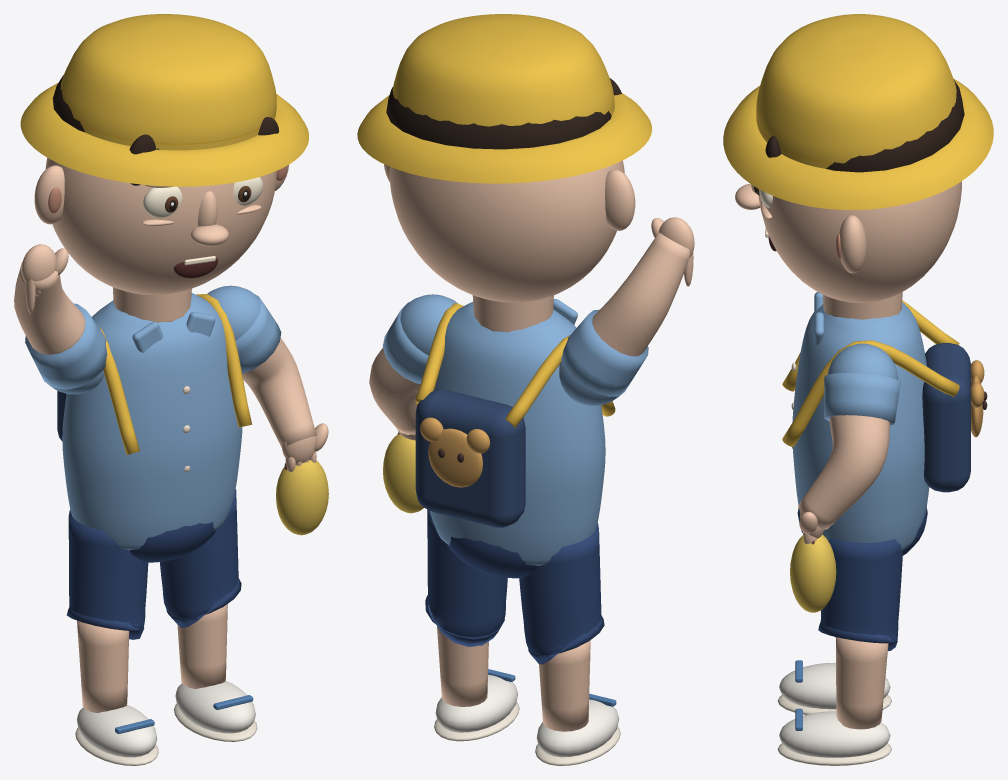
Rendered from kid.glb.
3 renders of one model, left to right at view 1: azimuth 30°, elevation 25°; view 2: azimuth 150°, elevation 25°; view 3: azimuth 270°, elevation 25°, orthographic. The views are drawn at different scales.
Visible parts, largest first — view 1: Torso, HatCrown, SculptedHead, HatBrim, TrouserLeg, TrouserLeg.001, Arm.001, BareCalf, Arm, BareCalf.001, ShortSleeve, DrawstringBag (+20 smaller); view 2: SculptedHead, Torso, HatCrown, HatBrim, SchoolBag, TrouserLeg, TrouserLeg.001, Arm, HairDome, BareCalf, ShortSleeve, BareCalf.001 (+16 smaller); view 3: HatCrown, Torso, SculptedHead, HatBrim, TrouserLeg.001, SchoolBag, Arm.001, BareCalf.001, Shoe.001, ShortSleeve.001, HairDome, DrawstringBag (+9 smaller).
Part boxes in pixels (box(x1,y1,x2,y2)): Torso: box(62, 293, 242, 550); HatCrown: box(60, 14, 276, 150); SculptedHead: box(45, 157, 276, 294); HatBrim: box(20, 82, 308, 186); TrouserLeg: box(66, 510, 148, 639); TrouserLeg.001: box(159, 489, 241, 627); Arm.001: box(242, 338, 316, 447); BareCalf: box(77, 620, 129, 712); Arm: box(14, 261, 85, 354); BareCalf.001: box(177, 604, 227, 688); ShortSleeve: box(25, 303, 107, 389); DrawstringBag: box(276, 460, 328, 535); SculptedHead: box(389, 160, 624, 302); Torso: box(430, 302, 605, 565); HatCrown: box(392, 14, 614, 126); HatBrim: box(357, 93, 652, 183); SchoolBag: box(415, 389, 525, 527); TrouserLeg: box(519, 523, 604, 664); TrouserLeg.001: box(425, 509, 507, 646); Arm: box(592, 232, 689, 356); HairDome: box(386, 86, 611, 149); BareCalf: box(539, 640, 590, 731); ShortSleeve: box(561, 309, 648, 396); BareCalf.001: box(437, 626, 488, 706); HatCrown: box(756, 14, 956, 168); Torso: box(792, 302, 929, 550); SculptedHead: box(758, 181, 961, 302); HatBrim: box(723, 78, 993, 209); TrouserLeg.001: box(818, 537, 902, 651); SchoolBag: box(922, 343, 970, 492); Arm.001: box(798, 415, 889, 529); BareCalf.001: box(836, 637, 888, 729); Shoe.001: box(779, 711, 890, 757); ShortSleeve.001: box(824, 373, 900, 425); HairDome: box(826, 80, 964, 172); DrawstringBag: box(790, 534, 836, 612).
Bounding box in the file's own units: 0.9291 × 2.04 × 0.7156.
